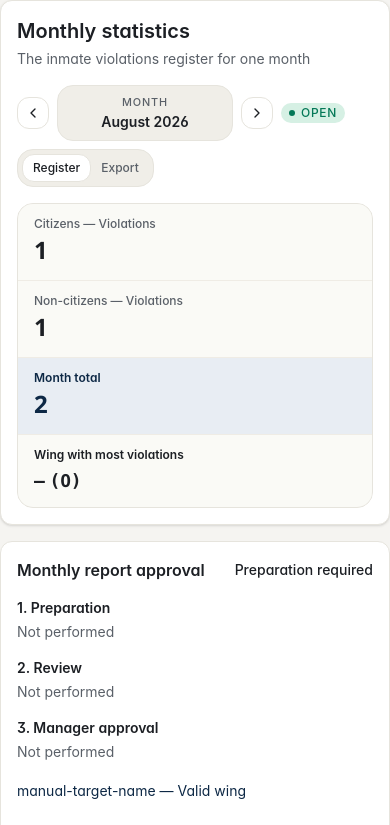
Test: StatisticsTab › opens the exact blocker correction in the mobile inspector across populations
What coordinates should you click on to do the following:
click the button "manual-target-name — Valid wing"
I would click on:
 (132, 791)
Its box is x1=17 y1=781 x2=246 y2=801.
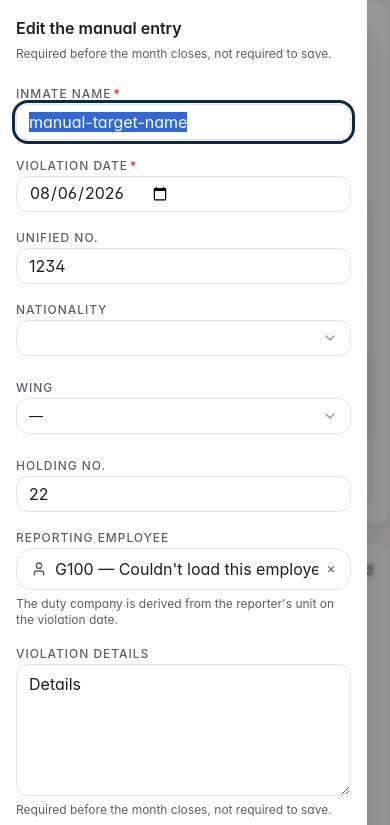
Expected: the field labelled "Inmate name*" holds "manual-target-name", x1=16 y1=104 x2=351 y2=140
